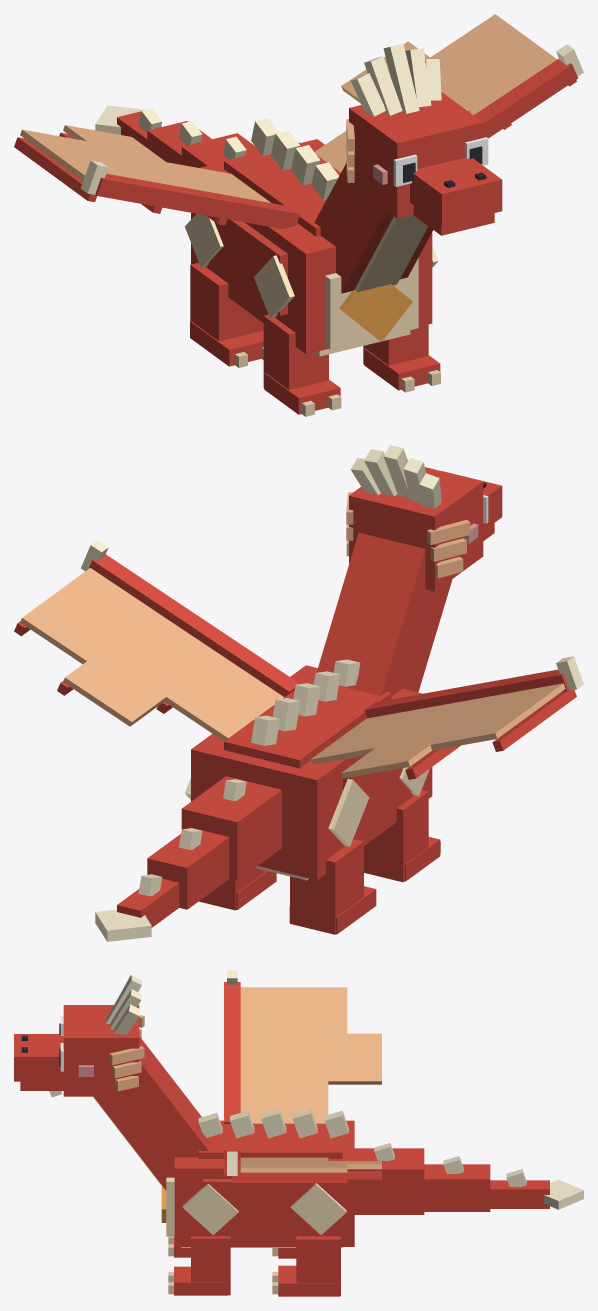
Rendered from CatCafe_Dragon_Elder.glb.
The picture shows the model from 3 angles, top to bottom: view 1: azimuth 30°, elevation 25°; view 2: azimuth 150°, elevation 25°; view 3: azimuth 270°, elevation 25°; orthographic projection. The views are drawn at different scales.
Visible parts, largest first — view 1: CatCafe_Dragon_Elder_Body_Scale, CatCafe_Dragon_Elder_Head_Scale, CatCafe_Dragon_Elder, CatCafe_Dragon_Elder_WingR, CatCafe_Dragon_Elder_WingL, CatCafe_Dragon_Elder_Head, CatCafe_Dragon_Elder_WingL_Scale, CatCafe_Dragon_Elder_Neck_Scale, CatCafe_Dragon_Elder_LegBL_Scale, CatCafe_Dragon_Elder_LegFL_Scale, CatCafe_Dragon_Elder_LegFR_Scale, CatCafe_Dragon_Elder_WingR_Scale (+7 smaller); view 2: CatCafe_Dragon_Elder_WingR, CatCafe_Dragon_Elder_Body_Scale, CatCafe_Dragon_Elder_Neck_Scale, CatCafe_Dragon_Elder_WingL, CatCafe_Dragon_Elder_Head_Scale, CatCafe_Dragon_Elder_Tail1_Scale, CatCafe_Dragon_Elder_Head, CatCafe_Dragon_Elder, CatCafe_Dragon_Elder_WingR_Scale, CatCafe_Dragon_Elder_LegBL_Scale, CatCafe_Dragon_Elder_WingL_Scale, CatCafe_Dragon_Elder_LegFL_Scale (+4 smaller); view 3: CatCafe_Dragon_Elder_WingL, CatCafe_Dragon_Elder_Body_Scale, CatCafe_Dragon_Elder_Head_Scale, CatCafe_Dragon_Elder_Neck_Scale, CatCafe_Dragon_Elder, CatCafe_Dragon_Elder_Tail1_Scale, CatCafe_Dragon_Elder_LegBR_Scale, CatCafe_Dragon_Elder_Head, CatCafe_Dragon_Elder_Tail2_Scale, CatCafe_Dragon_Elder_LegFR_Scale, CatCafe_Dragon_Elder_WingL_Scale, CatCafe_Dragon_Elder_WingR (+4 smaller).
Boxes of the visible parts, x1,y1,x2,y2 form: CatCafe_Dragon_Elder_Body_Scale: (191,139,432,354); CatCafe_Dragon_Elder_Head_Scale: (349,92,502,225); CatCafe_Dragon_Elder: (184,118,438,356); CatCafe_Dragon_Elder_WingR: (314,14,583,172); CatCafe_Dragon_Elder_WingL: (20,125,270,202); CatCafe_Dragon_Elder_Head: (346,44,488,187); CatCafe_Dragon_Elder_WingL_Scale: (14,132,299,228); CatCafe_Dragon_Elder_Neck_Scale: (314,163,432,293); CatCafe_Dragon_Elder_LegBL_Scale: (190,262,263,366); CatCafe_Dragon_Elder_LegFL_Scale: (263,314,340,414); CatCafe_Dragon_Elder_LegFR_Scale: (363,324,440,390); CatCafe_Dragon_Elder_WingR_Scale: (474,58,578,138); CatCafe_Dragon_Elder_WingR: (20,540,284,740); CatCafe_Dragon_Elder_Body_Scale: (191,665,432,880); CatCafe_Dragon_Elder_Neck_Scale: (316,532,452,696); CatCafe_Dragon_Elder_WingL: (310,656,583,778); CatCafe_Dragon_Elder_Head_Scale: (349,467,502,591); CatCafe_Dragon_Elder_Tail1_Scale: (181,776,281,880); CatCafe_Dragon_Elder_Head: (346,445,488,578); CatCafe_Dragon_Elder: (185,659,429,880); CatCafe_Dragon_Elder_WingR_Scale: (14,554,299,713); CatCafe_Dragon_Elder_LegBL_Scale: (289,839,376,934); CatCafe_Dragon_Elder_WingL_Scale: (364,669,576,779); CatCafe_Dragon_Elder_LegFL_Scale: (364,790,440,882); CatCafe_Dragon_Elder_WingL: (227,970,381,1123); CatCafe_Dragon_Elder_Body_Scale: (174,1120,354,1246); CatCafe_Dragon_Elder_Head_Scale: (14,1005,139,1096); CatCafe_Dragon_Elder_Neck_Scale: (94,1036,208,1190); CatCafe_Dragon_Elder: (166,1108,348,1247); CatCafe_Dragon_Elder_Tail1_Scale: (354,1148,424,1214); CatCafe_Dragon_Elder_LegBR_Scale: (278,1236,340,1296); CatCafe_Dragon_Elder_Head: (21,975,144,1091); CatCafe_Dragon_Elder_Tail2_Scale: (424,1164,490,1211); CatCafe_Dragon_Elder_LegFR_Scale: (174,1236,230,1295); CatCafe_Dragon_Elder_WingL_Scale: (224,982,240,1123); CatCafe_Dragon_Elder_WingR: (227,1151,381,1175).
Bounding box in the file's own units: 8.21 × 5.89 × 10.45.
1 material, 1 textured.
